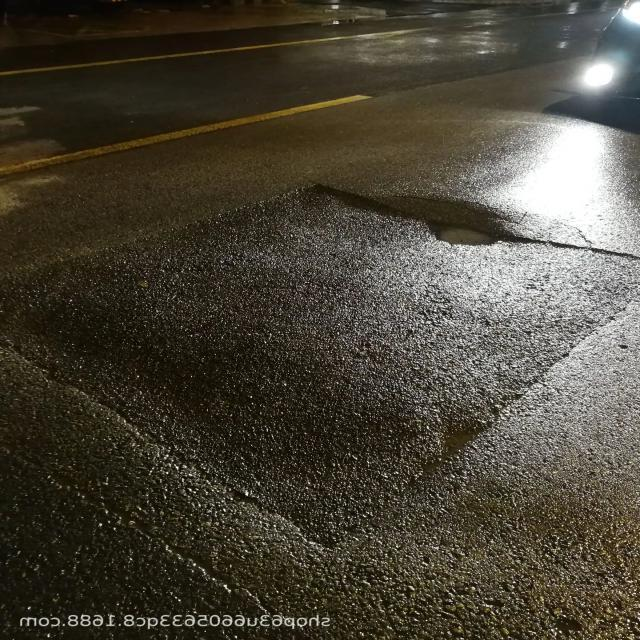pothole: (416, 221, 514, 251), (430, 420, 490, 463)
